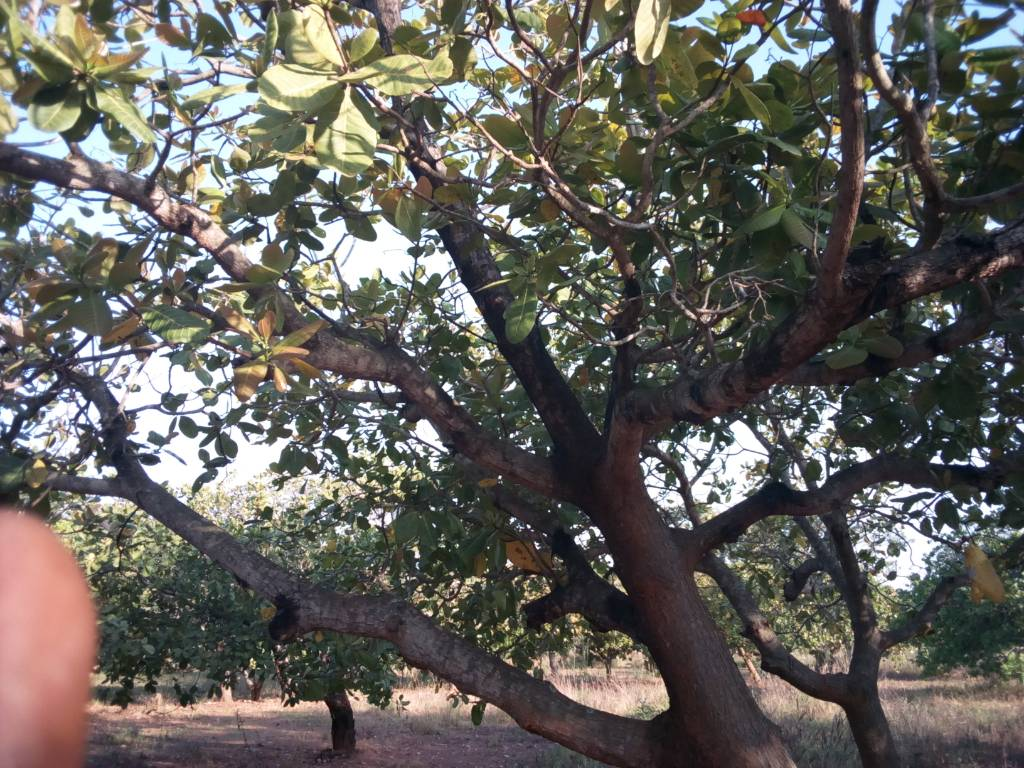Gommose: (514, 354, 615, 496)
